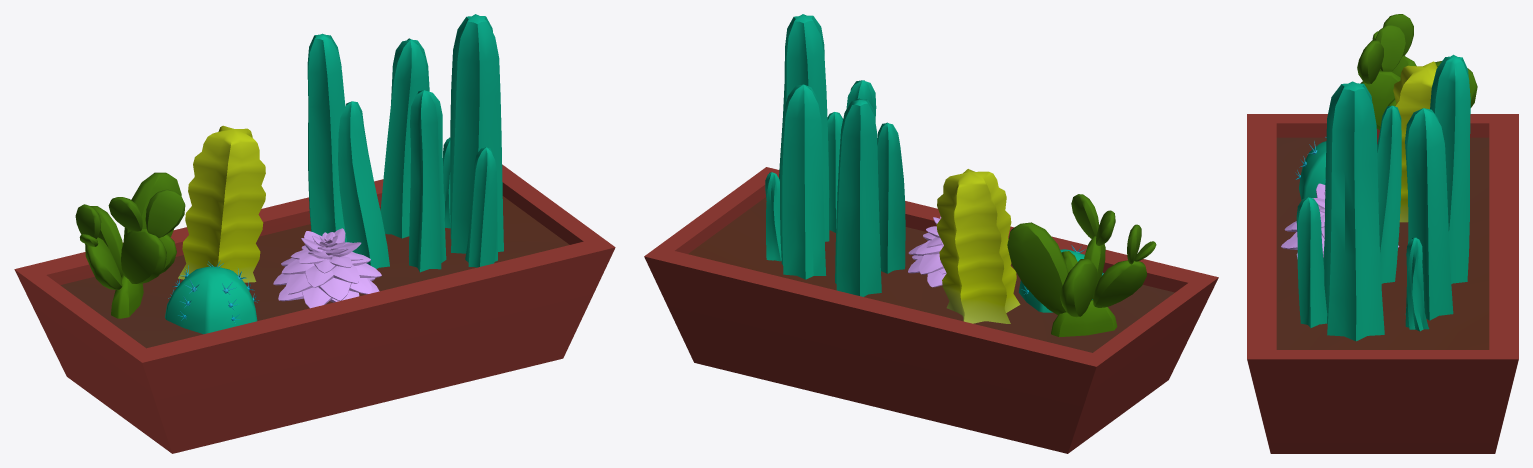
File: Plant_04.fbx
3 views of the same model, side by side, from view 1: azimuth 30°, elevation 25°; view 2: azimuth 150°, elevation 25°; view 3: azimuth 270°, elevation 25° (orthographic). The views are drawn at different scales.
Visible parts, largest first — view 1: Plant_04; view 2: Plant_04; view 3: Plant_04.
Part boxes in pixels (x1,y1,x2,y2): Plant_04: (14, 14, 615, 453); Plant_04: (644, 14, 1218, 453); Plant_04: (1247, 14, 1518, 453).
Bounding box in the file's own units: 111 × 73.19 × 52.18.
